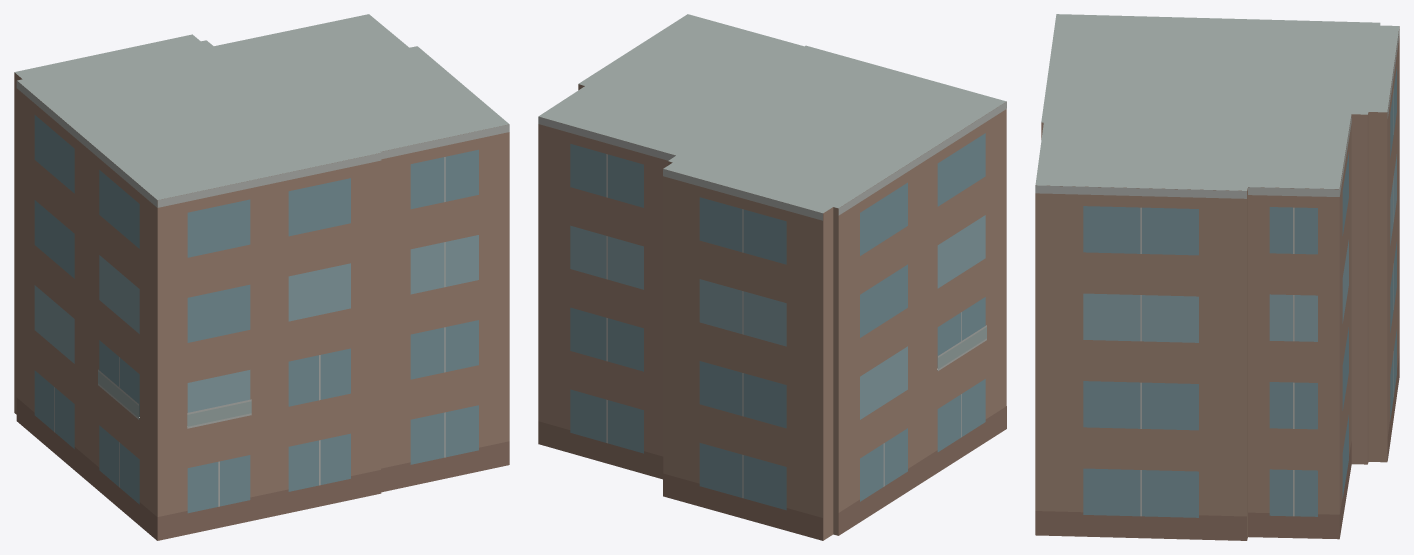
File: survey-upis-32748042.glb
3 views of the same model, side by side, from view 1: azimuth 30°, elevation 25°; view 2: azimuth 150°, elevation 25°; view 3: azimuth 270°, elevation 25° (orthographic). The views are drawn at different scales.
Visible parts, largest first — view 1: survey-upis-32748042.tmp; view 2: survey-upis-32748042.tmp; view 3: survey-upis-32748042.tmp.
Part boxes in pixels (x1,y1,x2,y2): survey-upis-32748042.tmp: (14,14,509,540); survey-upis-32748042.tmp: (538,14,1006,540); survey-upis-32748042.tmp: (1035,14,1399,540).
Size of the model in its own units: 11.61 by 10.7 by 10.1.
